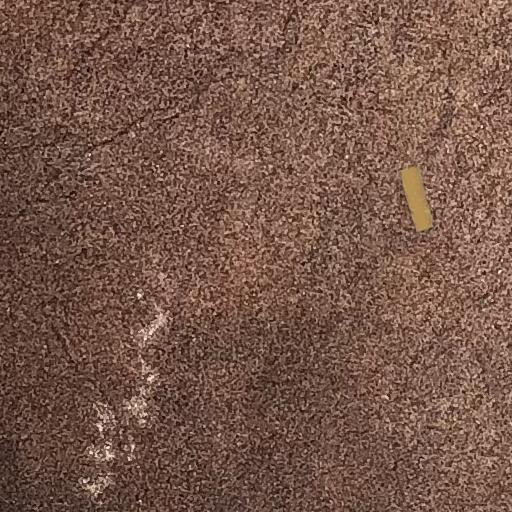smoke: (401, 167, 433, 231)
